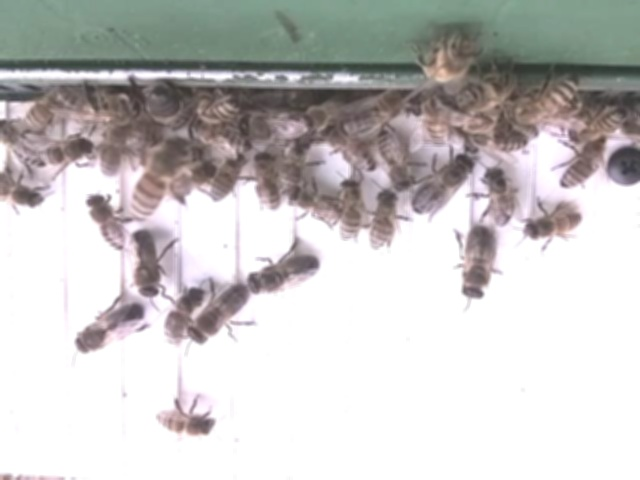Drone: (183, 281, 254, 349), (408, 149, 476, 219), (70, 300, 146, 359), (244, 248, 322, 300), (456, 226, 500, 304), (128, 227, 163, 301)
Worker: (130, 138, 184, 224), (516, 201, 583, 251), (373, 125, 420, 193), (282, 179, 342, 228), (554, 137, 606, 193), (319, 124, 376, 175), (85, 190, 127, 257), (362, 190, 406, 253), (329, 175, 367, 247), (160, 287, 203, 350), (36, 129, 99, 172), (0, 121, 49, 173), (182, 87, 244, 128), (150, 405, 218, 442), (479, 166, 517, 229), (246, 150, 279, 220), (201, 157, 248, 203), (96, 122, 129, 183)
